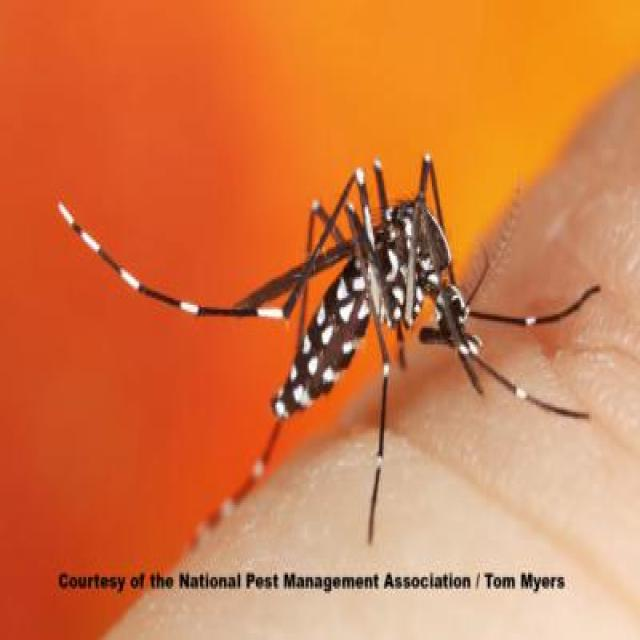antennae: (452, 169, 533, 319)
body: (273, 202, 464, 422)
insect: (51, 157, 604, 542)
legs: (358, 311, 594, 533), (41, 168, 368, 326), (338, 158, 486, 211)
wings: (235, 220, 374, 323)
